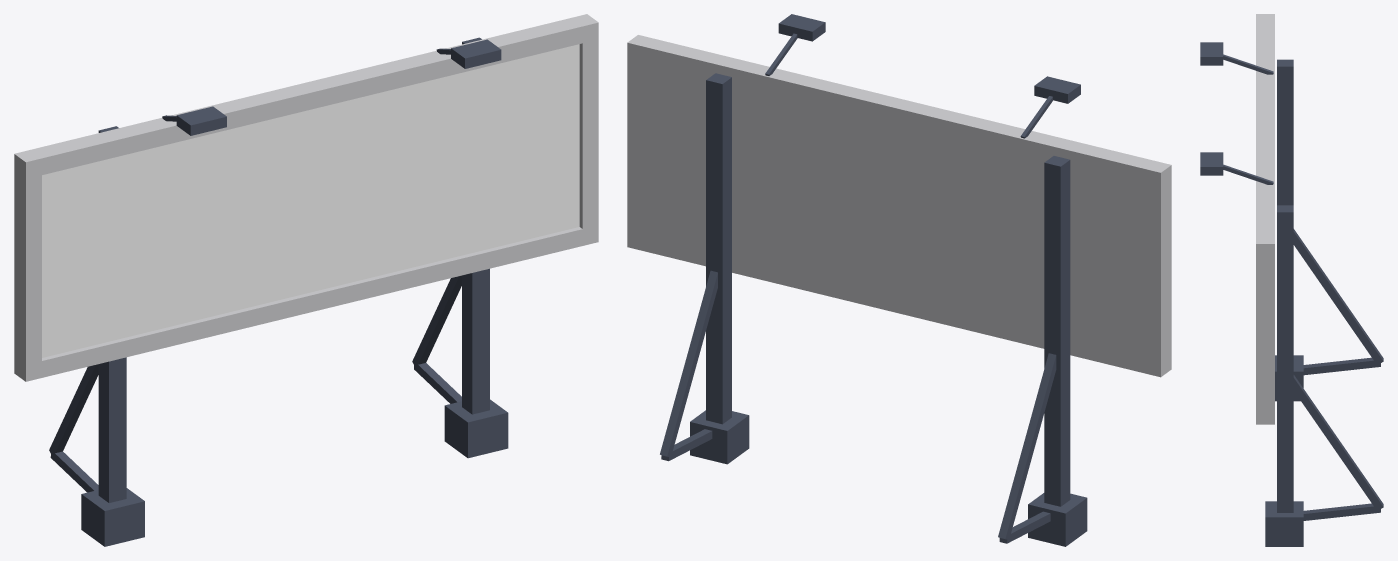
Rendered from billboard.glb.
3 renders of one model, left to right at view 1: azimuth 30°, elevation 25°; view 2: azimuth 150°, elevation 25°; view 3: azimuth 270°, elevation 25°, orthographic. The views are drawn at different scales.
Parts seen in each view (by area): view 1: face, frame, steel; view 2: frame, steel; view 3: steel, frame.
Part boxes in pixels (x1,y1,x2,y2): face: [42, 44, 579, 357]; frame: [14, 14, 598, 381]; steel: [49, 37, 508, 546]; frame: [627, 35, 1171, 377]; steel: [660, 14, 1087, 546]; steel: [1200, 42, 1383, 546]; frame: [1256, 14, 1274, 424].
Bounding box in the file's own units: 14.2 × 10.4 × 4.78.
